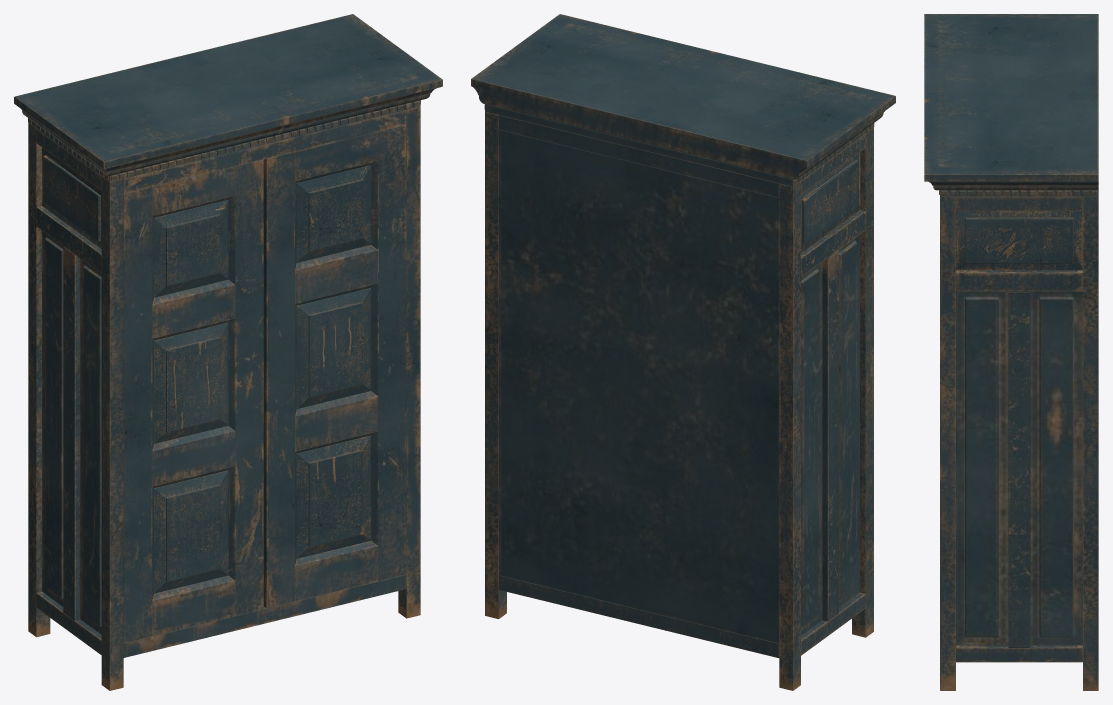
Rendered from NFG-I0004.glb.
3 renders of one model, left to right at view 1: azimuth 30°, elevation 25°; view 2: azimuth 150°, elevation 25°; view 3: azimuth 270°, elevation 25°, orthographic. The views are drawn at different scales.
Visible parts, largest first — view 1: Old wardrobe.003; view 2: Old wardrobe.003; view 3: Old wardrobe.003.
Part boxes in pixels (x1,y1,x2,y2): Old wardrobe.003: [14, 14, 442, 690]; Old wardrobe.003: [471, 14, 895, 690]; Old wardrobe.003: [924, 14, 1098, 690].
Size of the model in its own units: 1.32 by 2 by 0.6044.
Materials: 1 (1 with a texture image).
